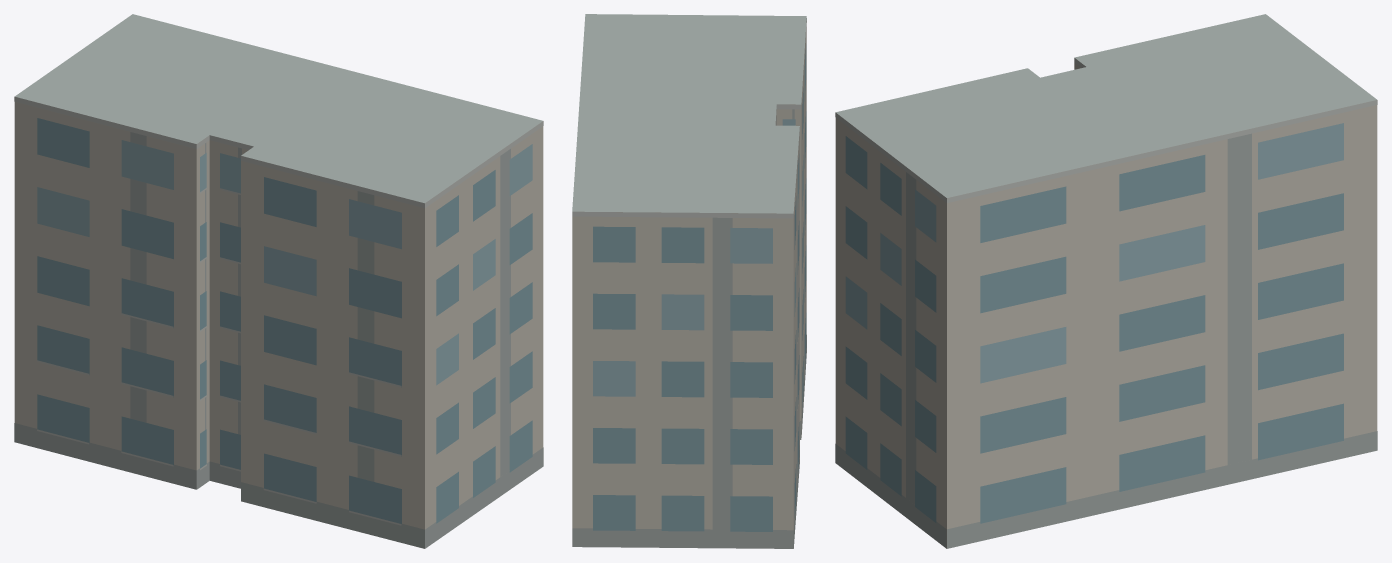
File: survey-upis-33019416.glb
3 views of the same model, side by side, from view 1: azimuth 30°, elevation 25°; view 2: azimuth 150°, elevation 25°; view 3: azimuth 270°, elevation 25° (orthographic). The views are drawn at different scales.
Visible parts, largest first — view 1: survey-upis-33019416.tmp; view 2: survey-upis-33019416.tmp; view 3: survey-upis-33019416.tmp.
Boxes of the visible parts, bbox=[...] form: survey-upis-33019416.tmp: bbox=[14, 14, 543, 548]; survey-upis-33019416.tmp: bbox=[572, 14, 806, 548]; survey-upis-33019416.tmp: bbox=[835, 14, 1377, 548].
Size of the model in its own units: 18.93 by 16.8 by 23.54.
